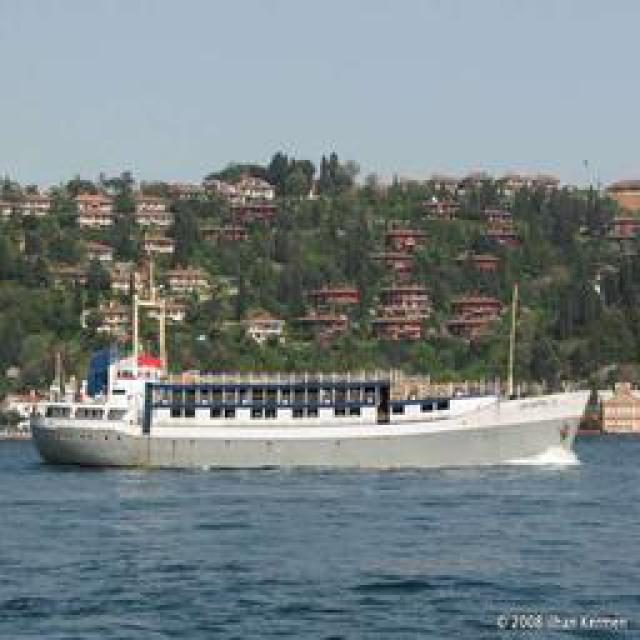Ship: (35, 377, 580, 475)
